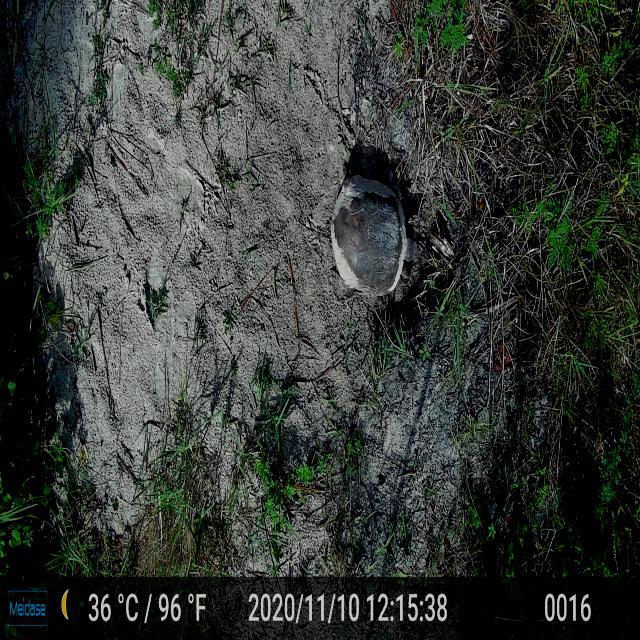tortoise: (328, 163, 420, 308)
